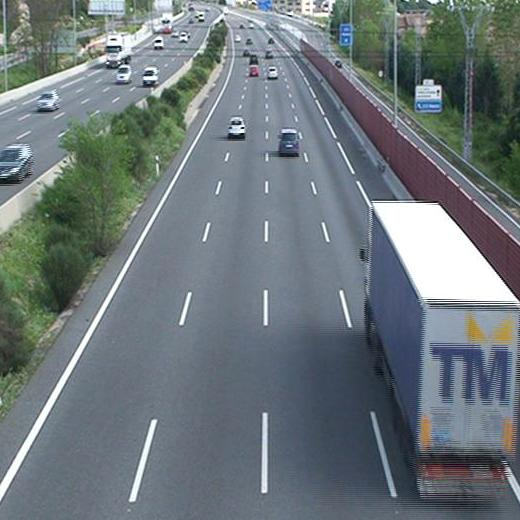car: (276, 128, 300, 157), (227, 115, 247, 140), (266, 65, 279, 79), (247, 64, 259, 77), (265, 48, 276, 58), (249, 53, 258, 63)
truck: (360, 200, 520, 497)
